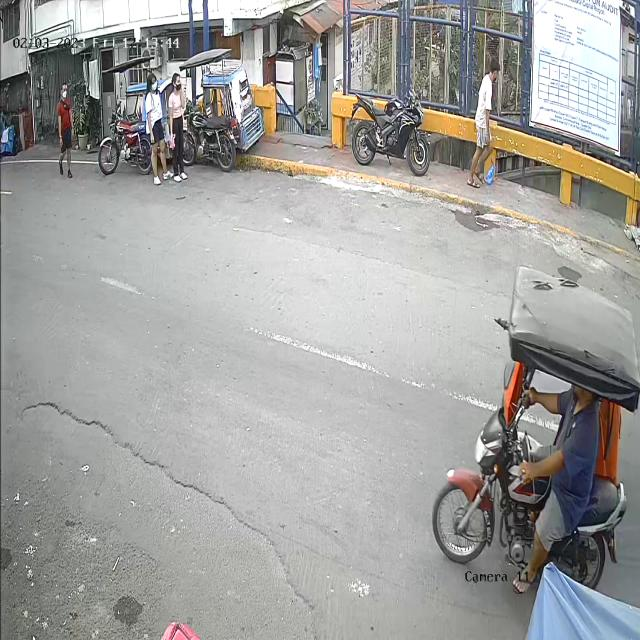garbage_dumping: (484, 163, 498, 188)
